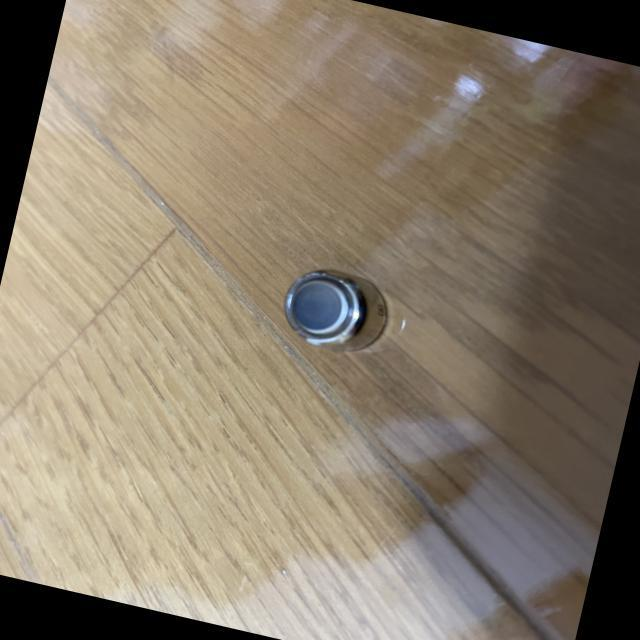COIN: (275, 260, 393, 356)
